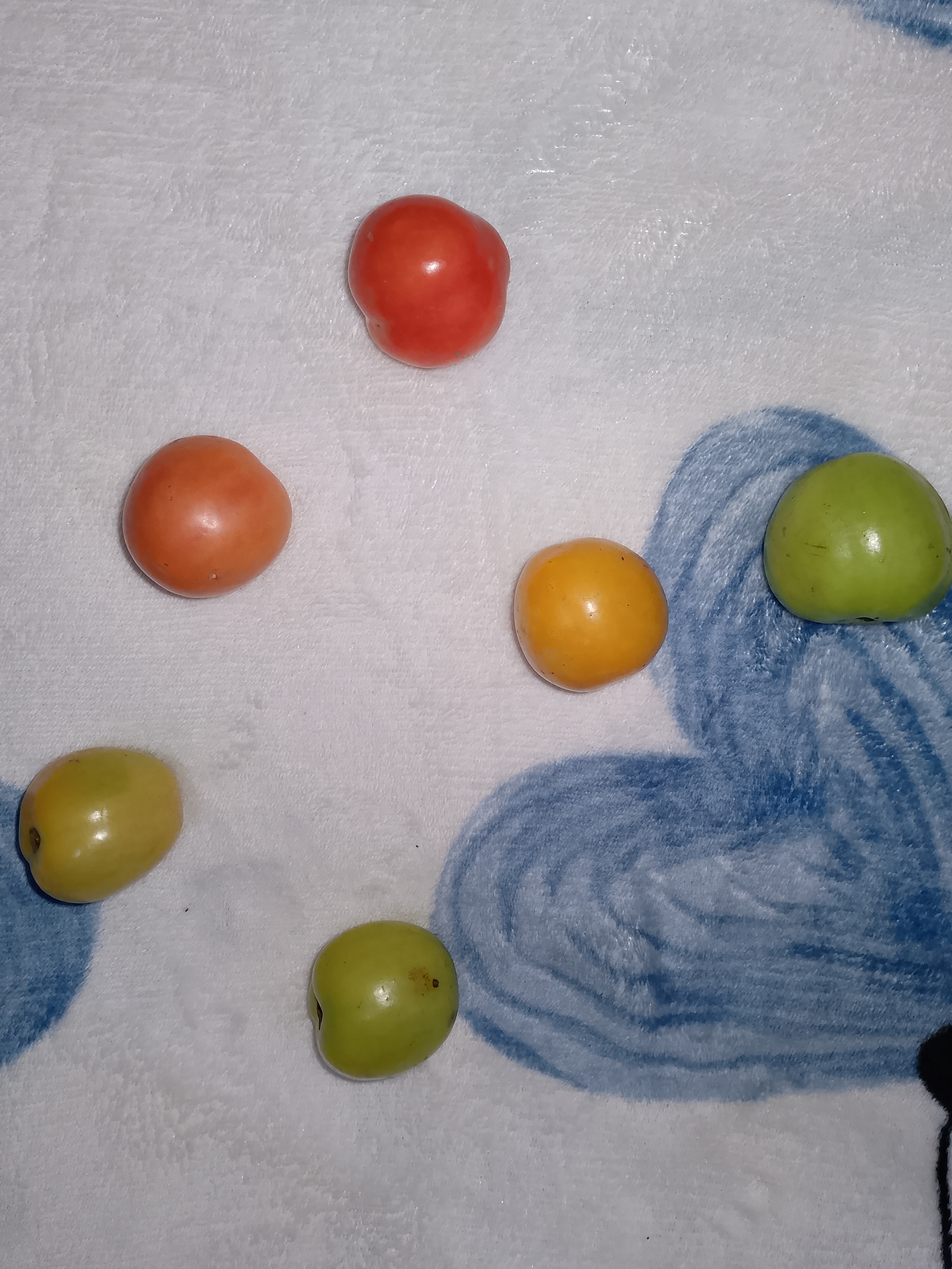Ripe: (93, 410, 327, 618), (488, 503, 680, 740), (340, 156, 524, 392)
Unripe: (729, 426, 952, 649), (286, 890, 504, 1103), (0, 724, 208, 934)
